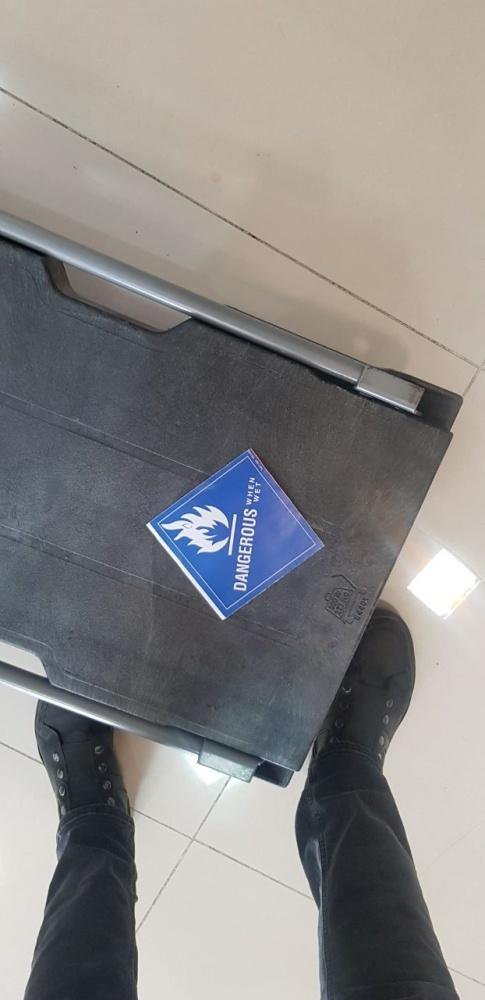dangerous-when-wet: (153, 452, 325, 619)
